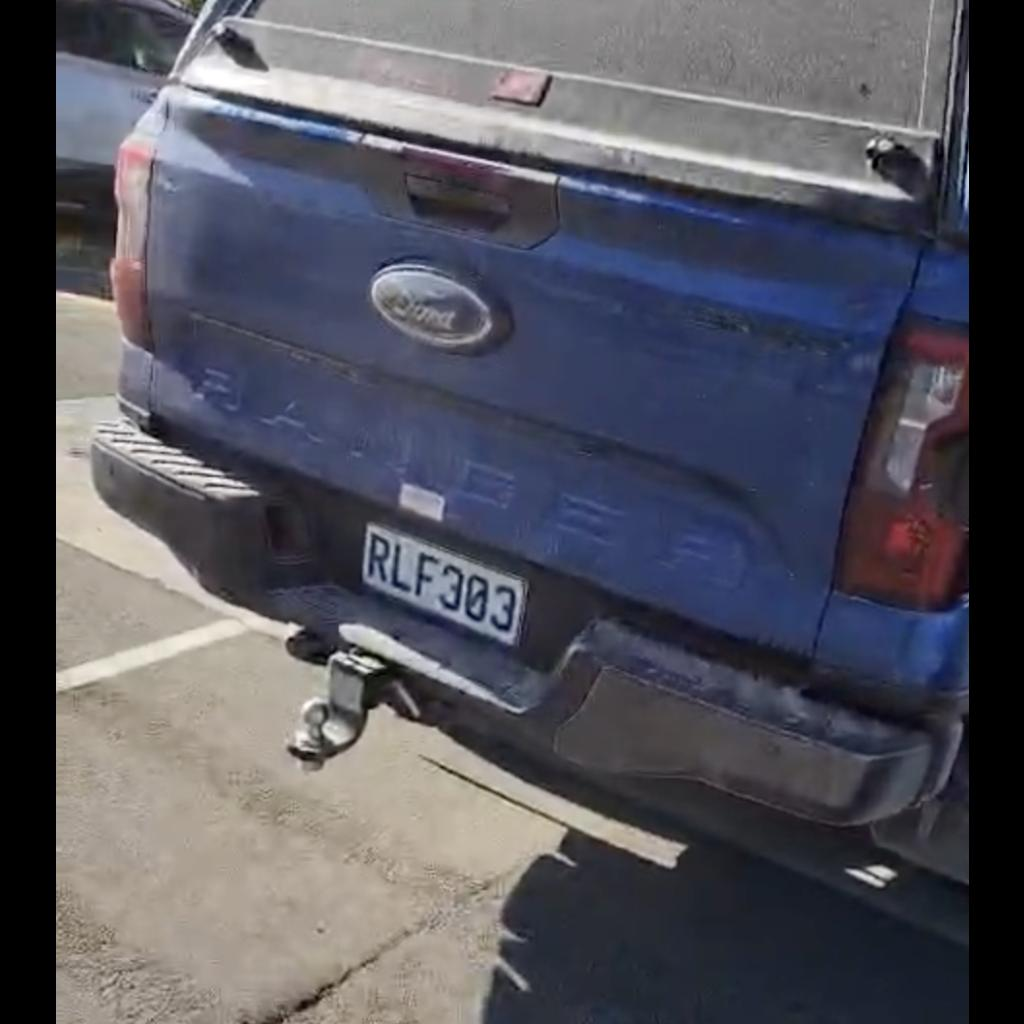Number-Plates: (338, 509, 549, 668)
